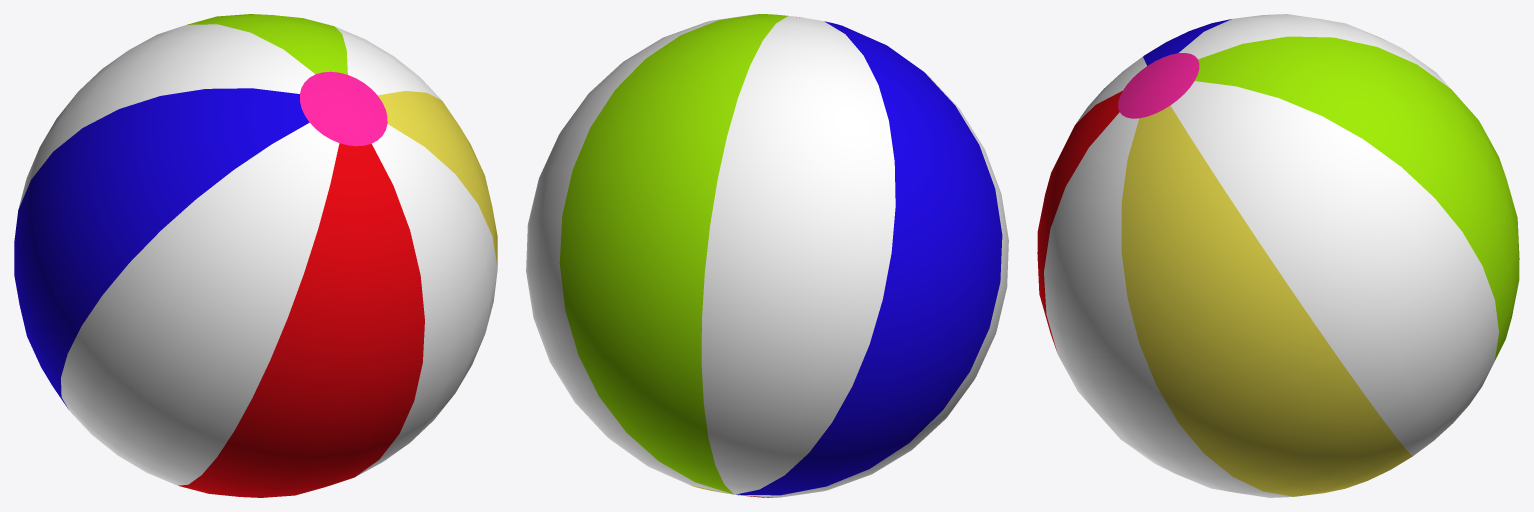
The model's file is Beach Toy Ball.fbx.
3 renders of one model, left to right at view 1: azimuth 30°, elevation 25°; view 2: azimuth 150°, elevation 25°; view 3: azimuth 270°, elevation 25°, orthographic.
Parts seen in each view (by area): view 1: Sphere; view 2: Sphere; view 3: Sphere.
Part boxes in pixels (x1,y1,x2,y2): Sphere: (14,14,497,497); Sphere: (526,14,1008,497); Sphere: (1037,14,1519,497).
Size of what is drawn, in the model's own units: 104 by 104 by 104.
